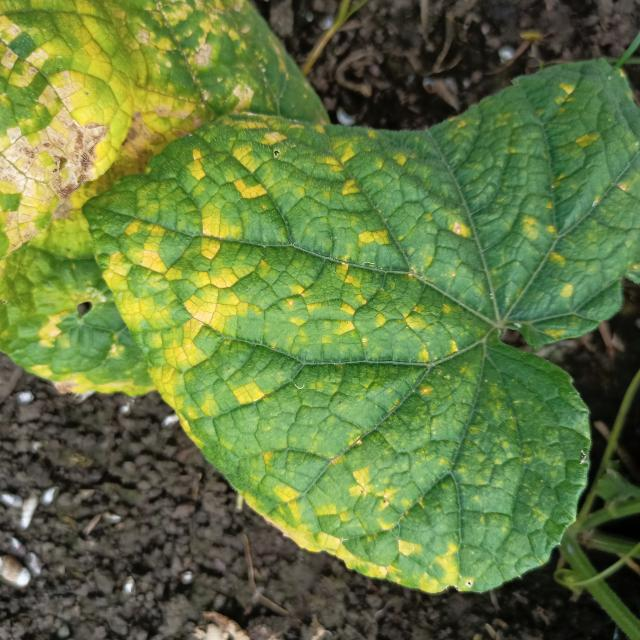disease_cucumber: (114, 72, 629, 575), (0, 11, 289, 400)
